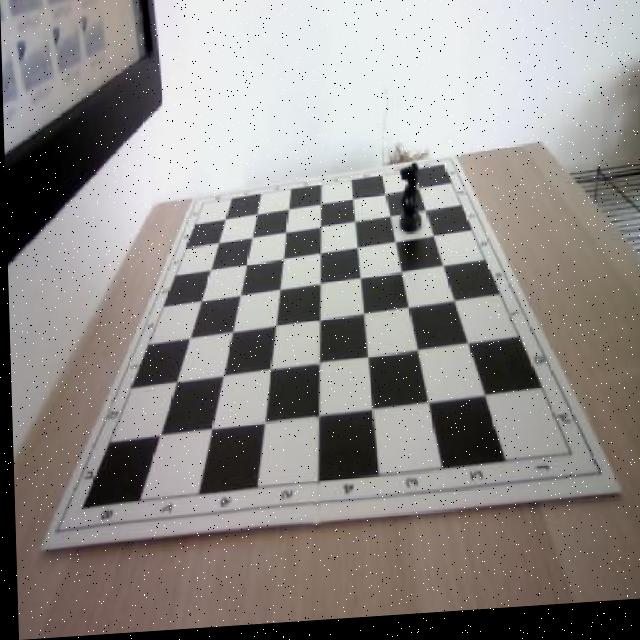black-king: (394, 171, 423, 241)
